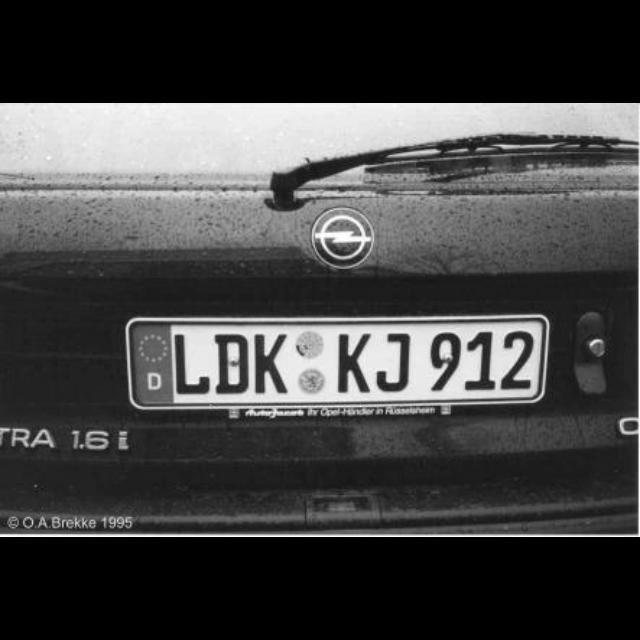licenseplate: (126, 317, 543, 402)
